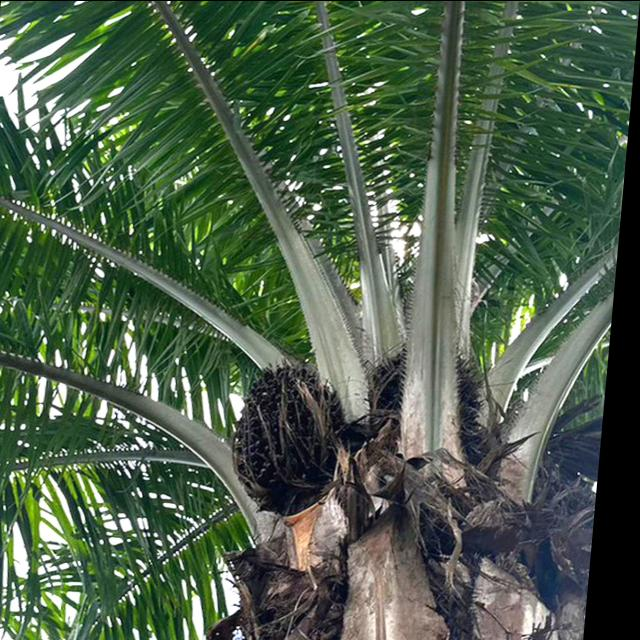almost: (232, 358, 372, 512)
